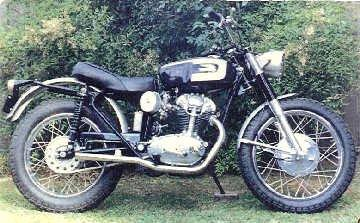motorcycle: (2, 18, 360, 217)
